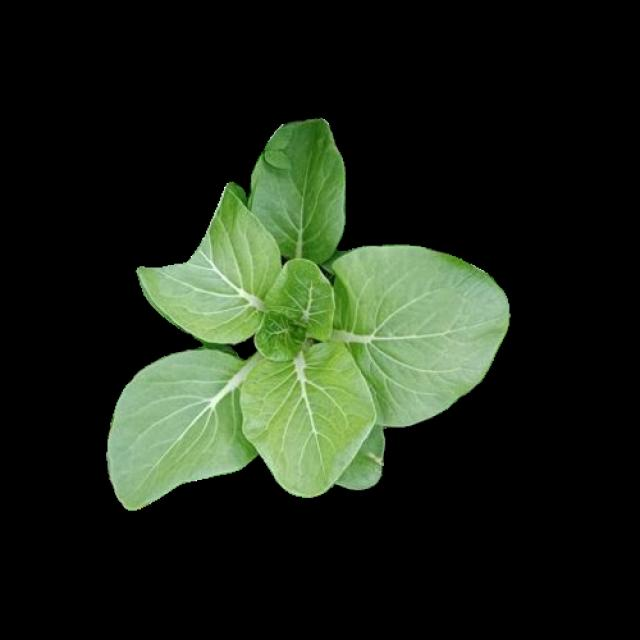mature: (105, 119, 508, 508)
unhealthy: (136, 176, 280, 344)
